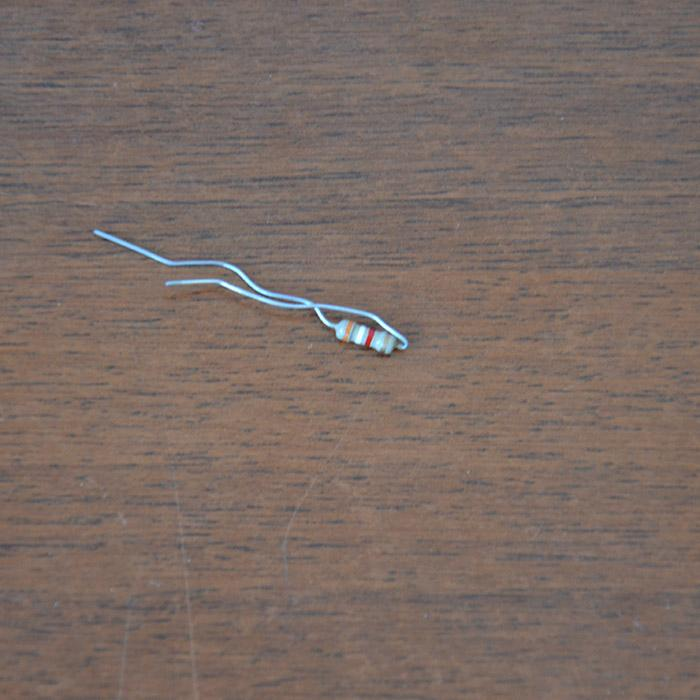resistor: (331, 317, 398, 356)
